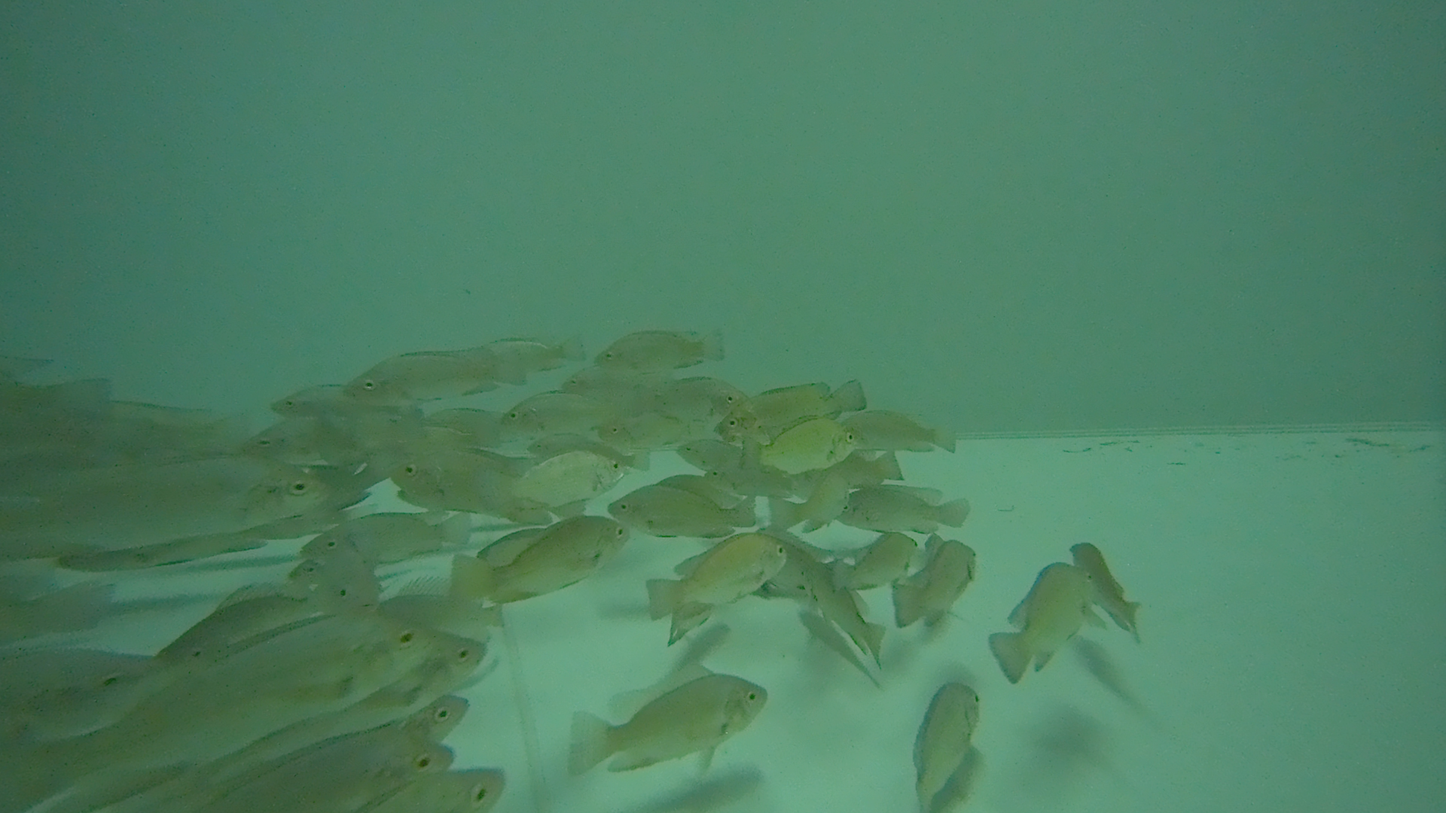fish: (343, 352, 524, 407), (607, 482, 758, 537), (498, 391, 641, 433), (592, 330, 725, 371)
